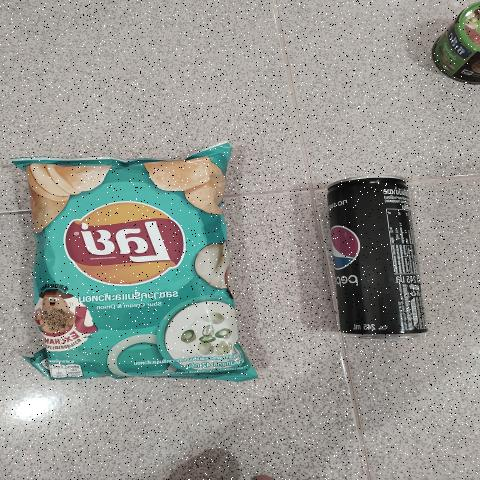lay_blue: (47, 170, 240, 370)
pepsi_black: (340, 174, 410, 339)
